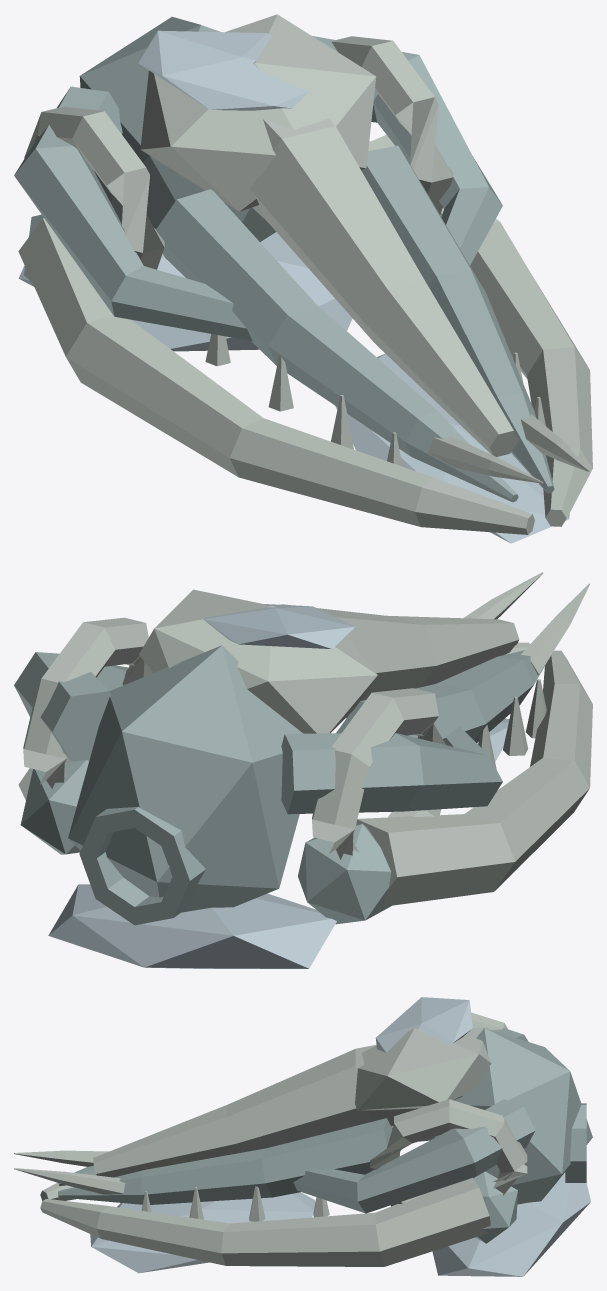
The model's file is Whale_Skull.glb.
The picture shows the model from 3 angles, top to bottom: view 1: azimuth 30°, elevation 25°; view 2: azimuth 150°, elevation 25°; view 3: azimuth 270°, elevation 25°; orthographic projection. The views are drawn at different scales.
Visible parts, largest first — view 1: Whale_Skull; view 2: Whale_Skull; view 3: Whale_Skull.
Boxes of the visible parts, left/top/right/bottom form: Whale_Skull: left=14, top=14, right=592, bottom=543; Whale_Skull: left=14, top=572, right=592, bottom=968; Whale_Skull: left=14, top=997, right=592, bottom=1276.
Bounding box in the file's own units: 1.93 × 1.39 × 3.25.
